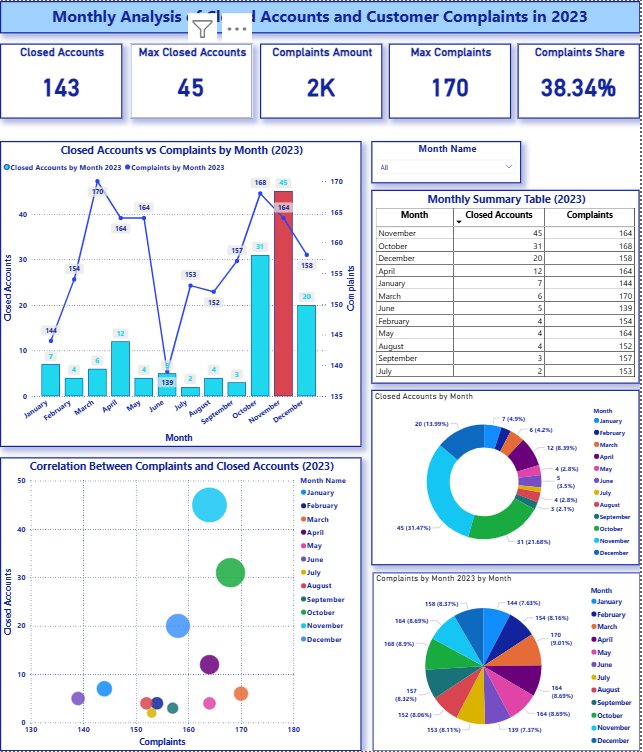

This screenshot's page, from the dashboard's own definition file:
{"tool":"powerbi","page":{"name":"Closed Accounts&Complaints 2023","canvas":[1280,1500],"ordinal":4},"visuals":[{"type":"textbox","box":[0,0,1281.1,65],"z":0},{"type":"cardVisual","title":"Closed Accounts","fields":{"Data":["Measures_.Closed Accounts 2023"]},"box":[0,85.6,244.4,150],"z":1000},{"type":"cardVisual","title":"Complaints Amount","fields":{"Data":["Measures_.Complaints 2023"]},"box":[519.8,85.2,245,150],"z":2000},{"type":"cardVisual","title":"Complaints Share","fields":{"Data":["Measures_.Complaints % 2023"]},"box":[1035,85.2,245,150],"z":3000},{"type":"cardVisual","title":"Max Closed Accounts","fields":{"Data":["Measures_.Max Closed Accounts 2023"]},"box":[260.5,85.2,245.6,150],"z":4000},{"type":"cardVisual","title":"Max Complaints","fields":{"Data":["Measures_.Max Complaints 2023"]},"box":[778.6,85.2,244.4,150],"z":5000},{"type":"lineClusteredColumnComboChart","title":"Closed Accounts vs Complaints by Month (2023)","fields":{"Category":["dimDate.MonthName"],"Y":["Measures_.Closed Accounts by Month 2023"],"Y2":["Measures_.Complaints by Month 2023"]},"box":[0,281,723,612],"z":6000},{"type":"scatterChart","title":"Correlation Between Complaints and Closed Accounts (2023)","fields":{"X":["Measures_.Complaints by Month 2023"],"Y":["Measures_.Closed Accounts by Month 2023"],"Series":["dimDate.MonthName"],"Size":["Measures_.Closed Accounts by Month 2023"]},"box":[0,912,723,588],"z":7000},{"type":"tableEx","title":"Monthly Summary Table (2023)","fields":{"Values":["dimDate.MonthName","Measures_.Closed Accounts by Month 2023","Measures_.Complaints by Month 2023"]},"box":[743,377,537,388],"z":8000},{"type":"slicer","title":"Month Name","fields":{"Values":["dimDate.MonthName"]},"box":[743,281,300,85],"z":9000},{"type":"donutChart","fields":{"Category":["dimDate.MonthName"],"Y":["Measures_.Closed Accounts by Month 2023"]},"box":[743,777,537,351],"z":10000},{"type":"pieChart","fields":{"Category":["dimDate.MonthName"],"Y":["Measures_.Complaints by Month 2023"]},"box":[744,1142,536,358],"z":11000}]}

Visuals, with their boxes in screenshot pixels (x1, y1, x2, y2), scaled from the page's 1280x1500 canvas onto the 643x752 screenshot:
textbox: {"left": 0, "top": 0, "right": 642, "bottom": 33}
"Closed Accounts" cardVisual: {"left": 0, "top": 43, "right": 123, "bottom": 118}
"Complaints Amount" cardVisual: {"left": 261, "top": 43, "right": 384, "bottom": 118}
"Complaints Share" cardVisual: {"left": 520, "top": 43, "right": 642, "bottom": 118}
"Max Closed Accounts" cardVisual: {"left": 131, "top": 43, "right": 254, "bottom": 118}
"Max Complaints" cardVisual: {"left": 391, "top": 43, "right": 514, "bottom": 118}
"Closed Accounts vs Complaints by Month (2023)" lineClusteredColumnComboChart: {"left": 0, "top": 141, "right": 363, "bottom": 448}
"Correlation Between Complaints and Closed Accounts (2023)" scatterChart: {"left": 0, "top": 457, "right": 363, "bottom": 751}
"Monthly Summary Table (2023)" tableEx: {"left": 373, "top": 189, "right": 642, "bottom": 384}
"Month Name" slicer: {"left": 373, "top": 141, "right": 524, "bottom": 183}
donutChart - dimDate.MonthName x Measures_.Closed Accounts by Month 2023: {"left": 373, "top": 390, "right": 642, "bottom": 566}
pieChart - dimDate.MonthName x Measures_.Complaints by Month 2023: {"left": 374, "top": 573, "right": 642, "bottom": 751}
